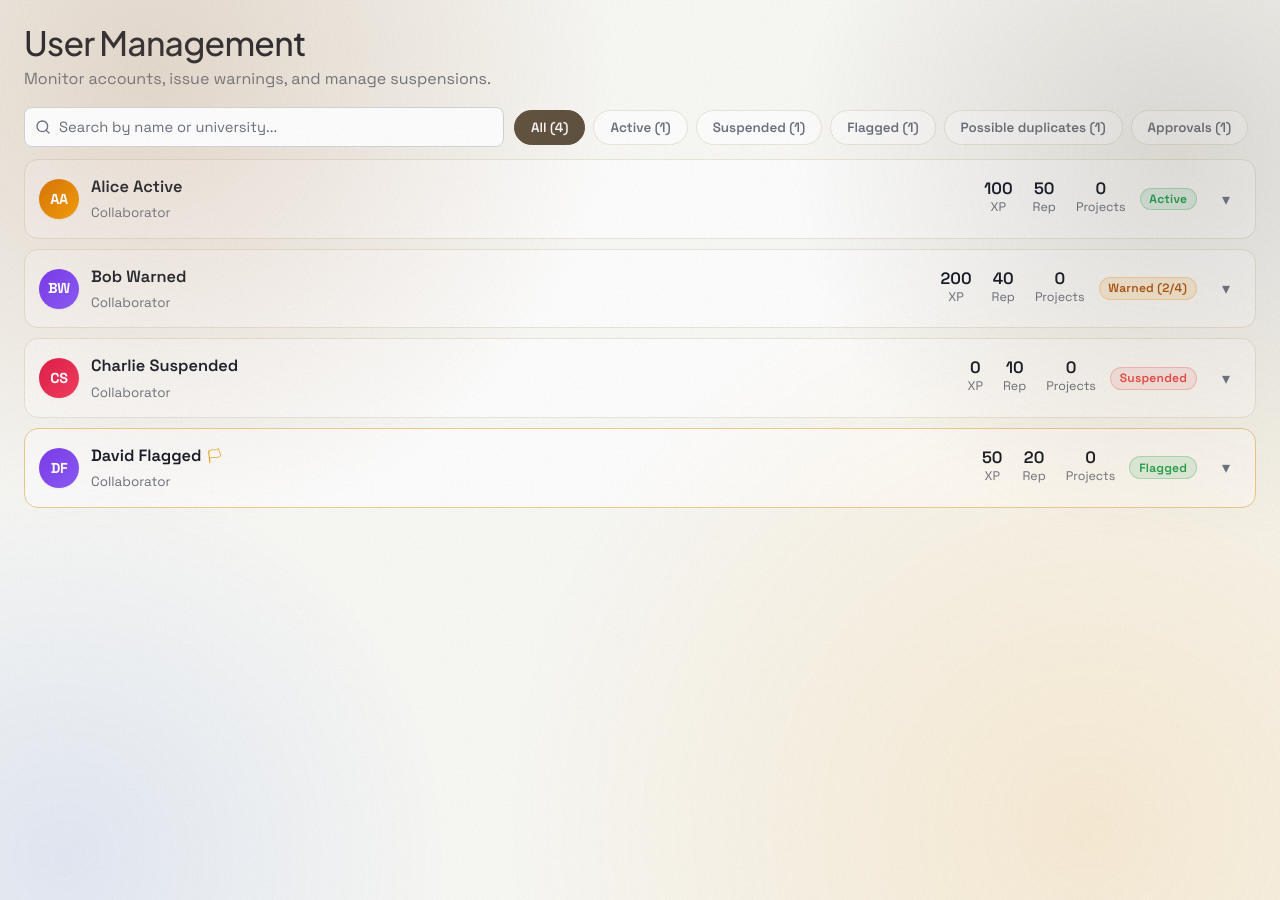
Test case: AdminUsers: Warned Filter Chip Removal › filters correctly using remaining chips and counts remain unchanged
Expected: the text "Alice Active" is shown, [91, 174, 182, 200]
Expected: the text "Bob Warned" is shown, [91, 264, 186, 290]
Click the tab "Active (1)" at x=641, y=127, box [593, 110, 688, 145]
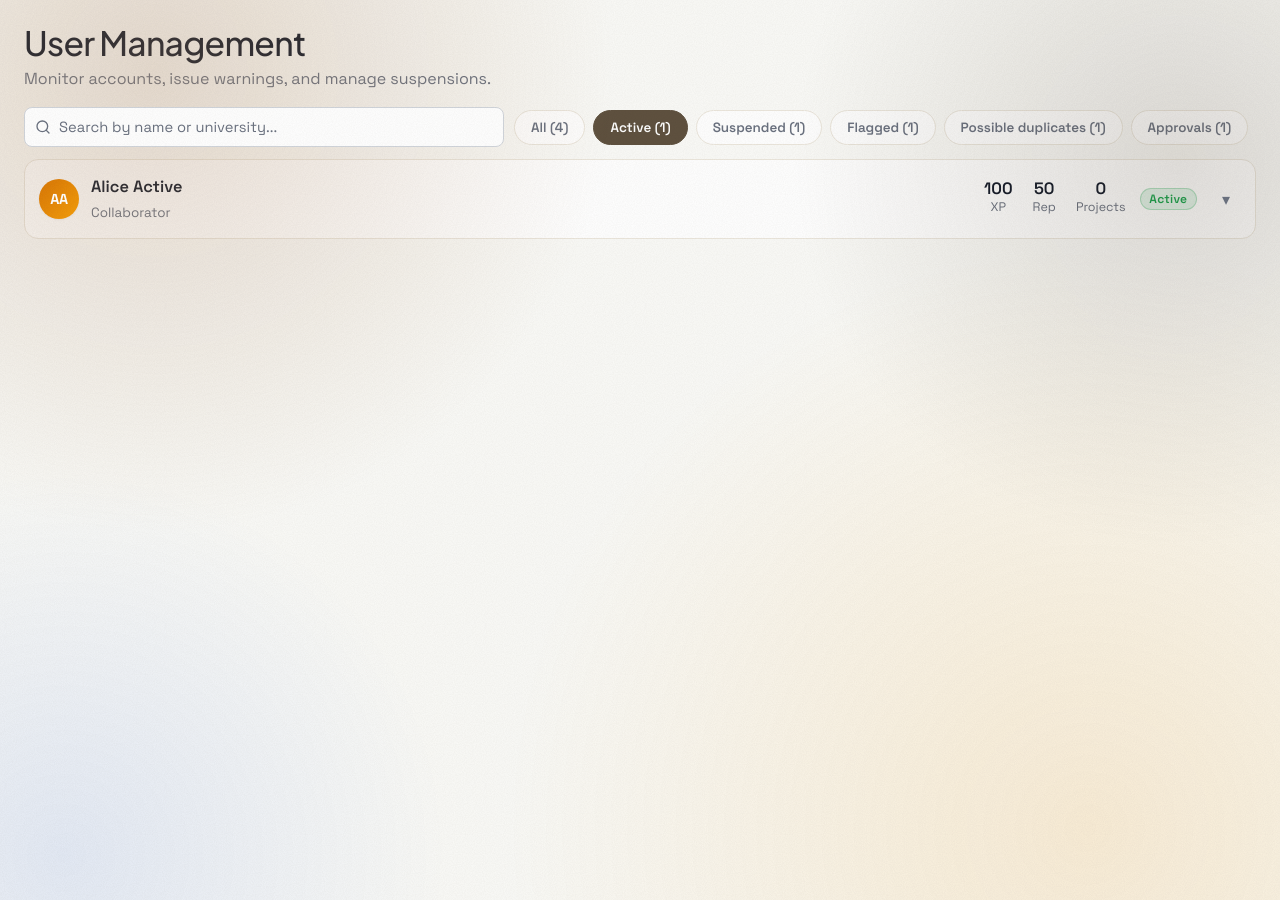
Now the text "Bob Warned" is gone
Now the text "Charlie Suspended" is gone
Now the text "David Flagged" is gone
Click the tab "Suspended (1)" at x=759, y=127, box [696, 110, 822, 145]
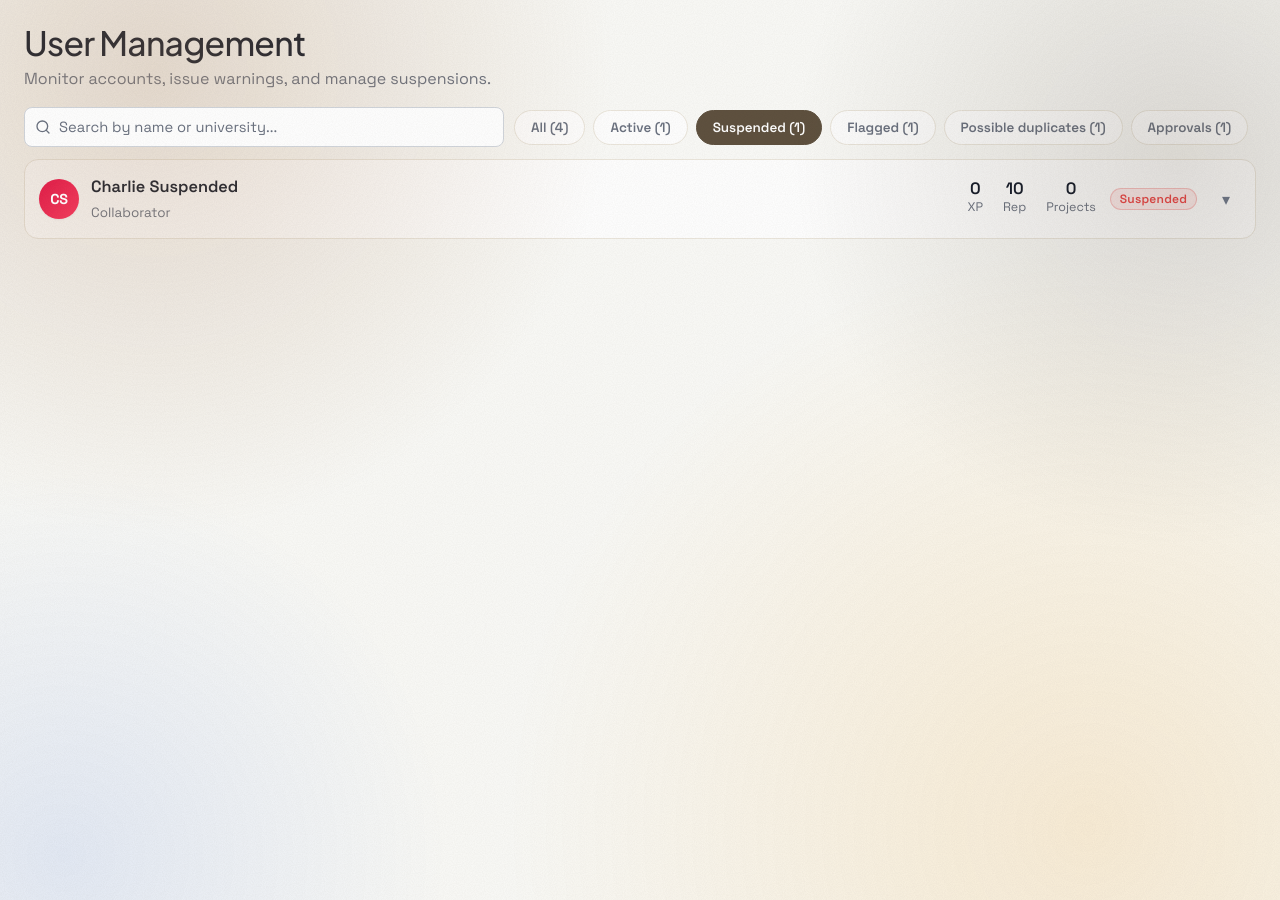
Now the text "Alice Active" is gone
Now the text "Charlie Suspended" is shown, box [91, 174, 238, 200]
Click the tab "Flagged (1)" at x=883, y=127, box [830, 110, 936, 145]
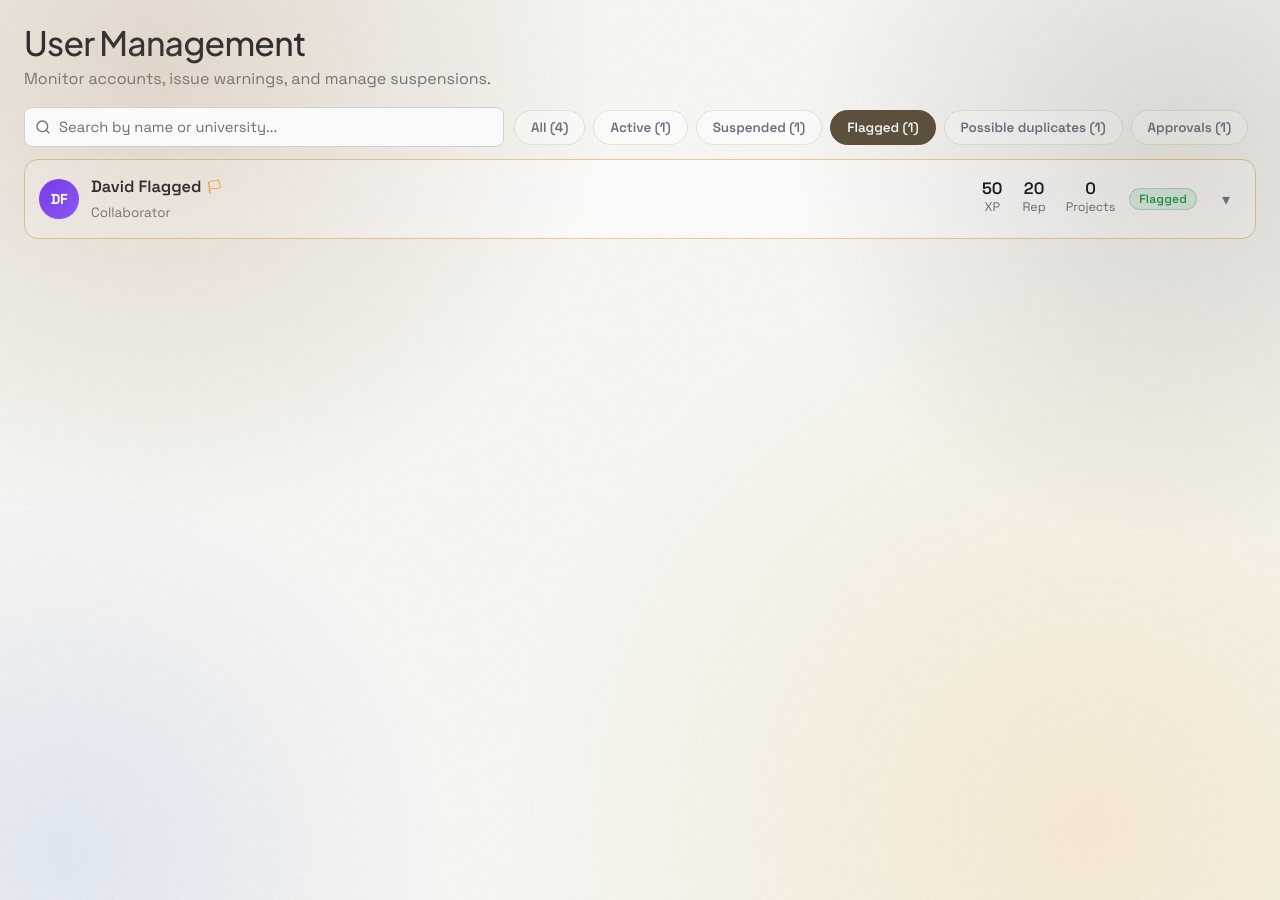
Expected: the text "Alice Active" is not shown
Now the text "David Flagged" is shown, box [91, 176, 202, 197]
